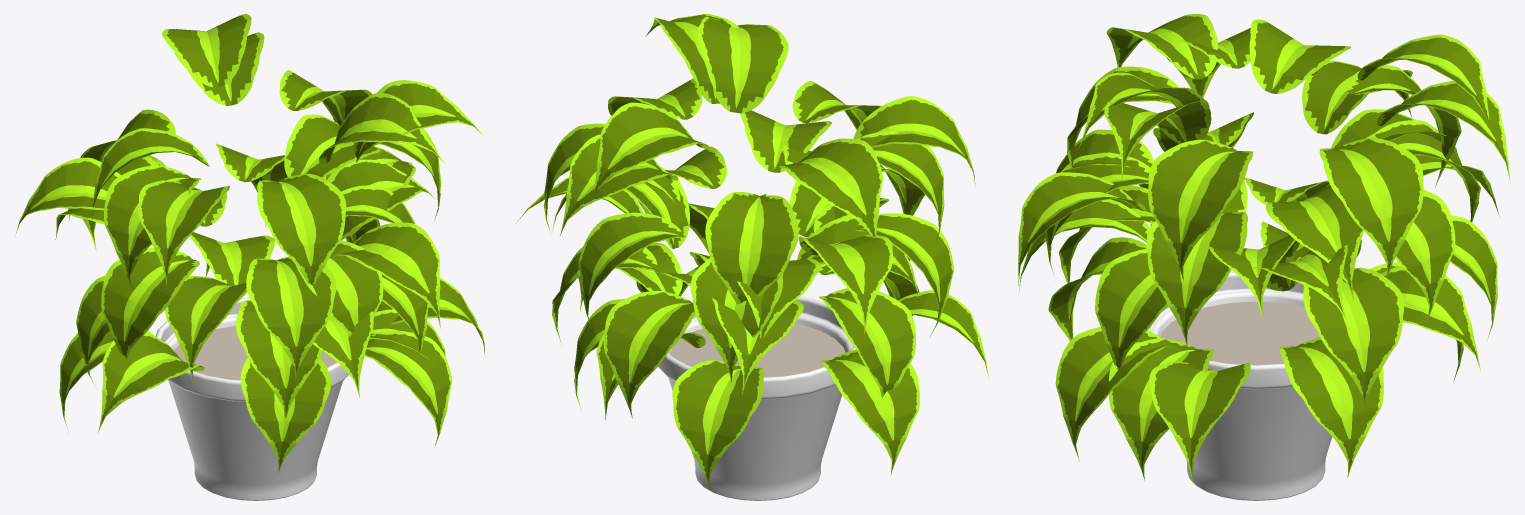
File: plant.glb
3 views of the same model, side by side, from view 1: azimuth 30°, elevation 25°; view 2: azimuth 150°, elevation 25°; view 3: azimuth 270°, elevation 25° (orthographic). The views are drawn at different scales.
Visible parts, largest first — view 1: Plant; view 2: Plant; view 3: Plant.
Part boxes in pixels (bbox=[...]): Plant: bbox=[16, 14, 485, 500]; Plant: bbox=[515, 14, 989, 500]; Plant: bbox=[1018, 14, 1510, 500].
Bounding box in the file's own units: 0.1957 × 0.1877 × 0.1875.
